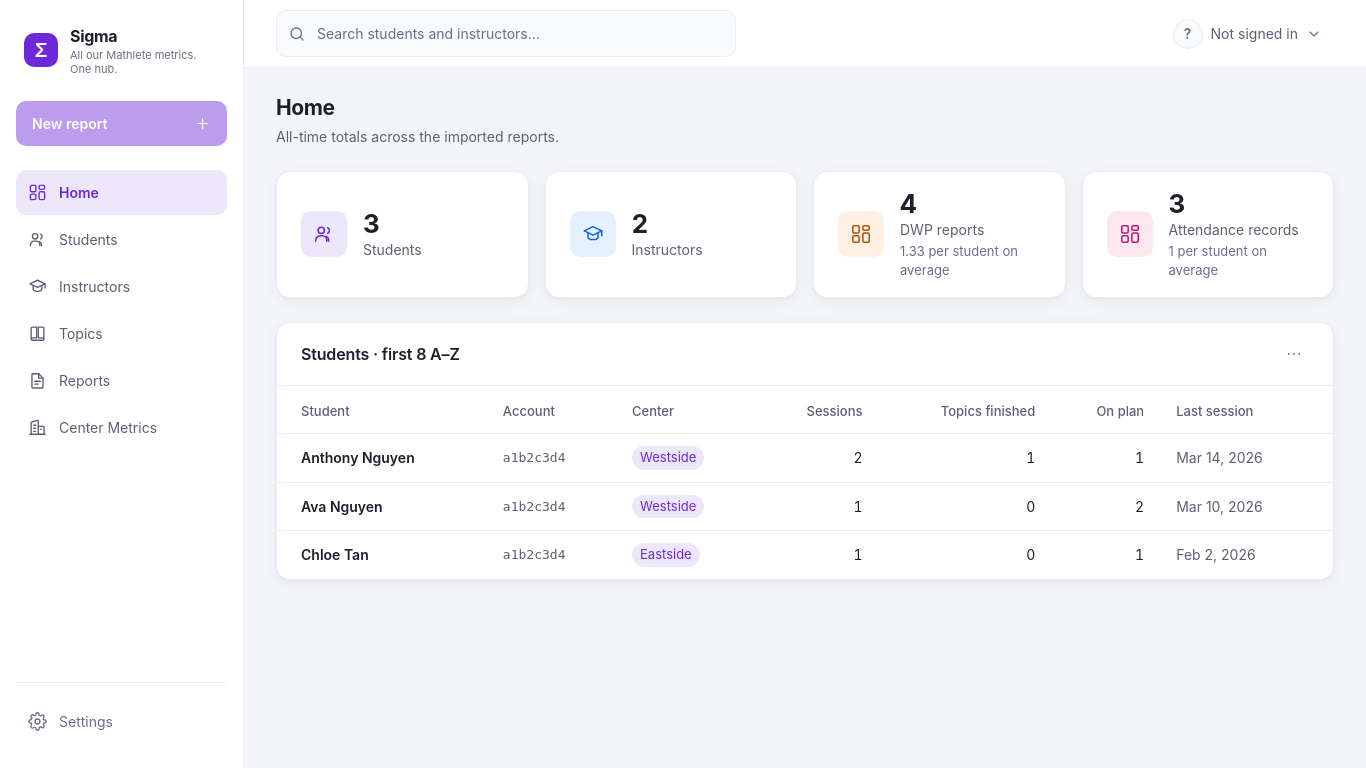
it: global search › groups the two kinds and totals each, because a name can match both
The width and height of the screenshot is (1366, 768).
In the search field labelled "Search students and instructors…": (506, 34) [276,10,736,57], type "an"
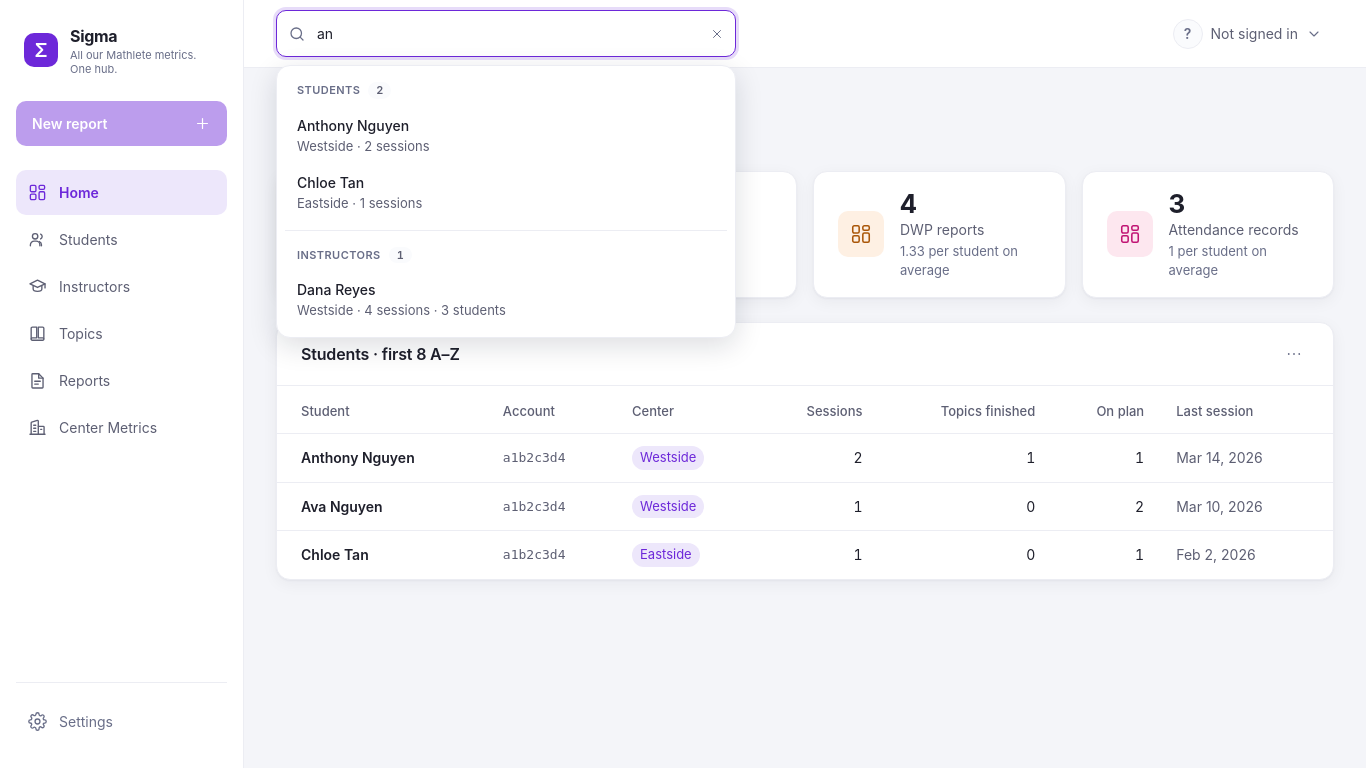
Now the button "Anthony Nguyen Westside · 2 sessions" is shown, box [285,106,727,164]
Now the button "Chloe Tan Eastside · 1 sessions" is shown, box [285,164,727,222]
Now the button "Dana Reyes Westside · 4 sessions · 3 students" is shown, box [285,271,727,328]
